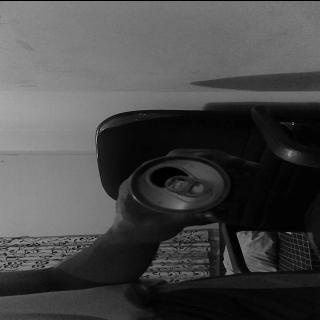alumunium_can: (130, 155, 236, 214)
